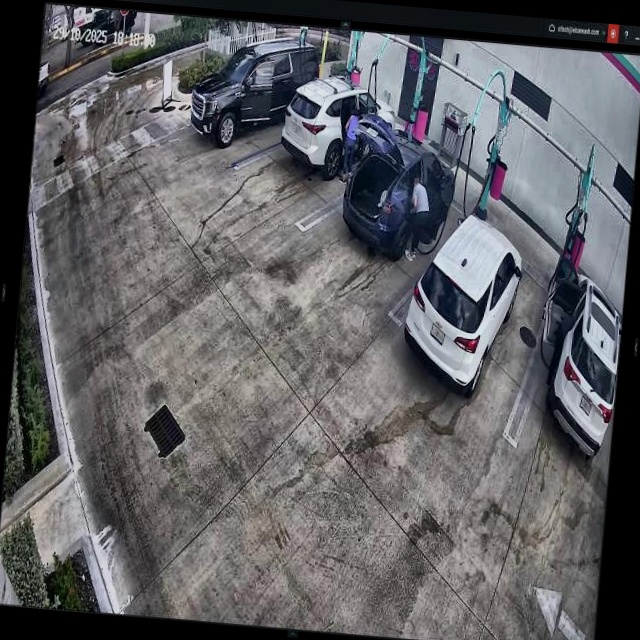Car: (400, 205, 525, 393), (338, 126, 460, 262), (278, 71, 399, 184)
